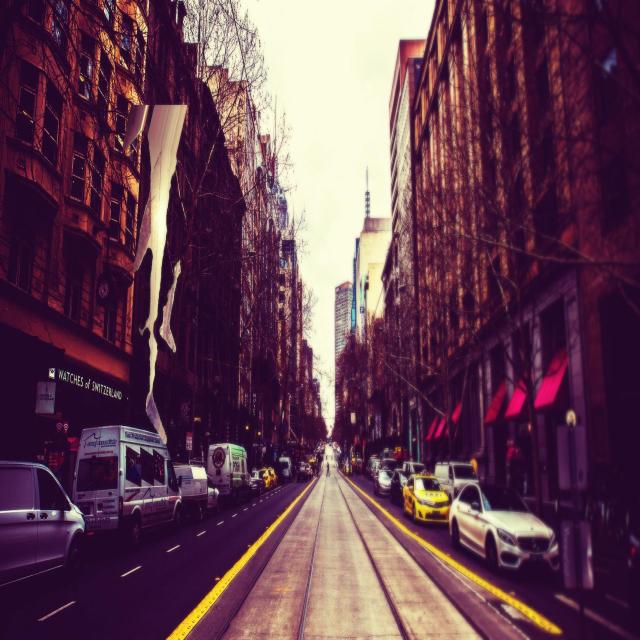airplane: (122, 106, 187, 445)
